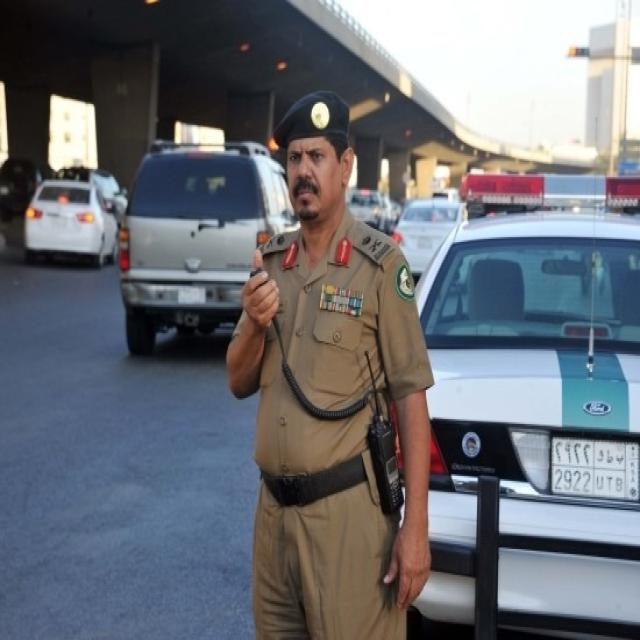license_plate: (549, 429, 640, 505)
